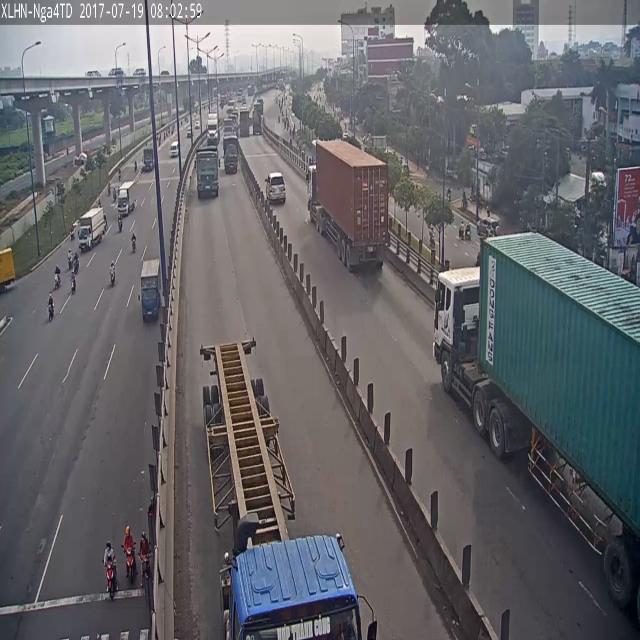car: (139, 532, 151, 604), (123, 525, 136, 582), (104, 541, 116, 598), (47, 293, 54, 321), (72, 252, 79, 275), (66, 248, 73, 270), (110, 261, 116, 285), (458, 222, 466, 239), (54, 266, 60, 288), (69, 222, 75, 241), (464, 223, 471, 239), (71, 271, 76, 293), (106, 180, 112, 198), (131, 232, 136, 252), (134, 160, 138, 172), (113, 187, 116, 202)
traffic-light: (266, 172, 286, 203), (169, 138, 179, 159), (186, 126, 194, 138)
truck: (433, 229, 640, 635), (196, 334, 367, 640), (307, 138, 391, 274), (140, 260, 160, 321), (78, 207, 105, 251), (196, 148, 218, 198), (116, 180, 136, 221), (222, 135, 240, 173), (143, 143, 154, 172)
